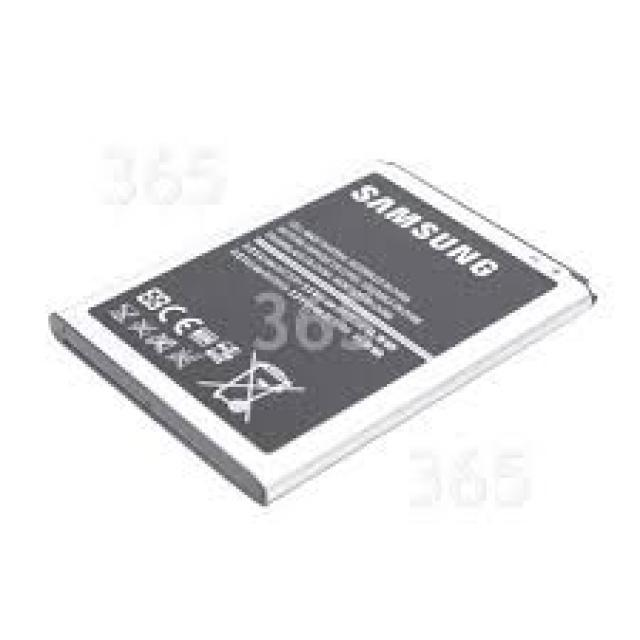battery: (52, 158, 598, 507)
